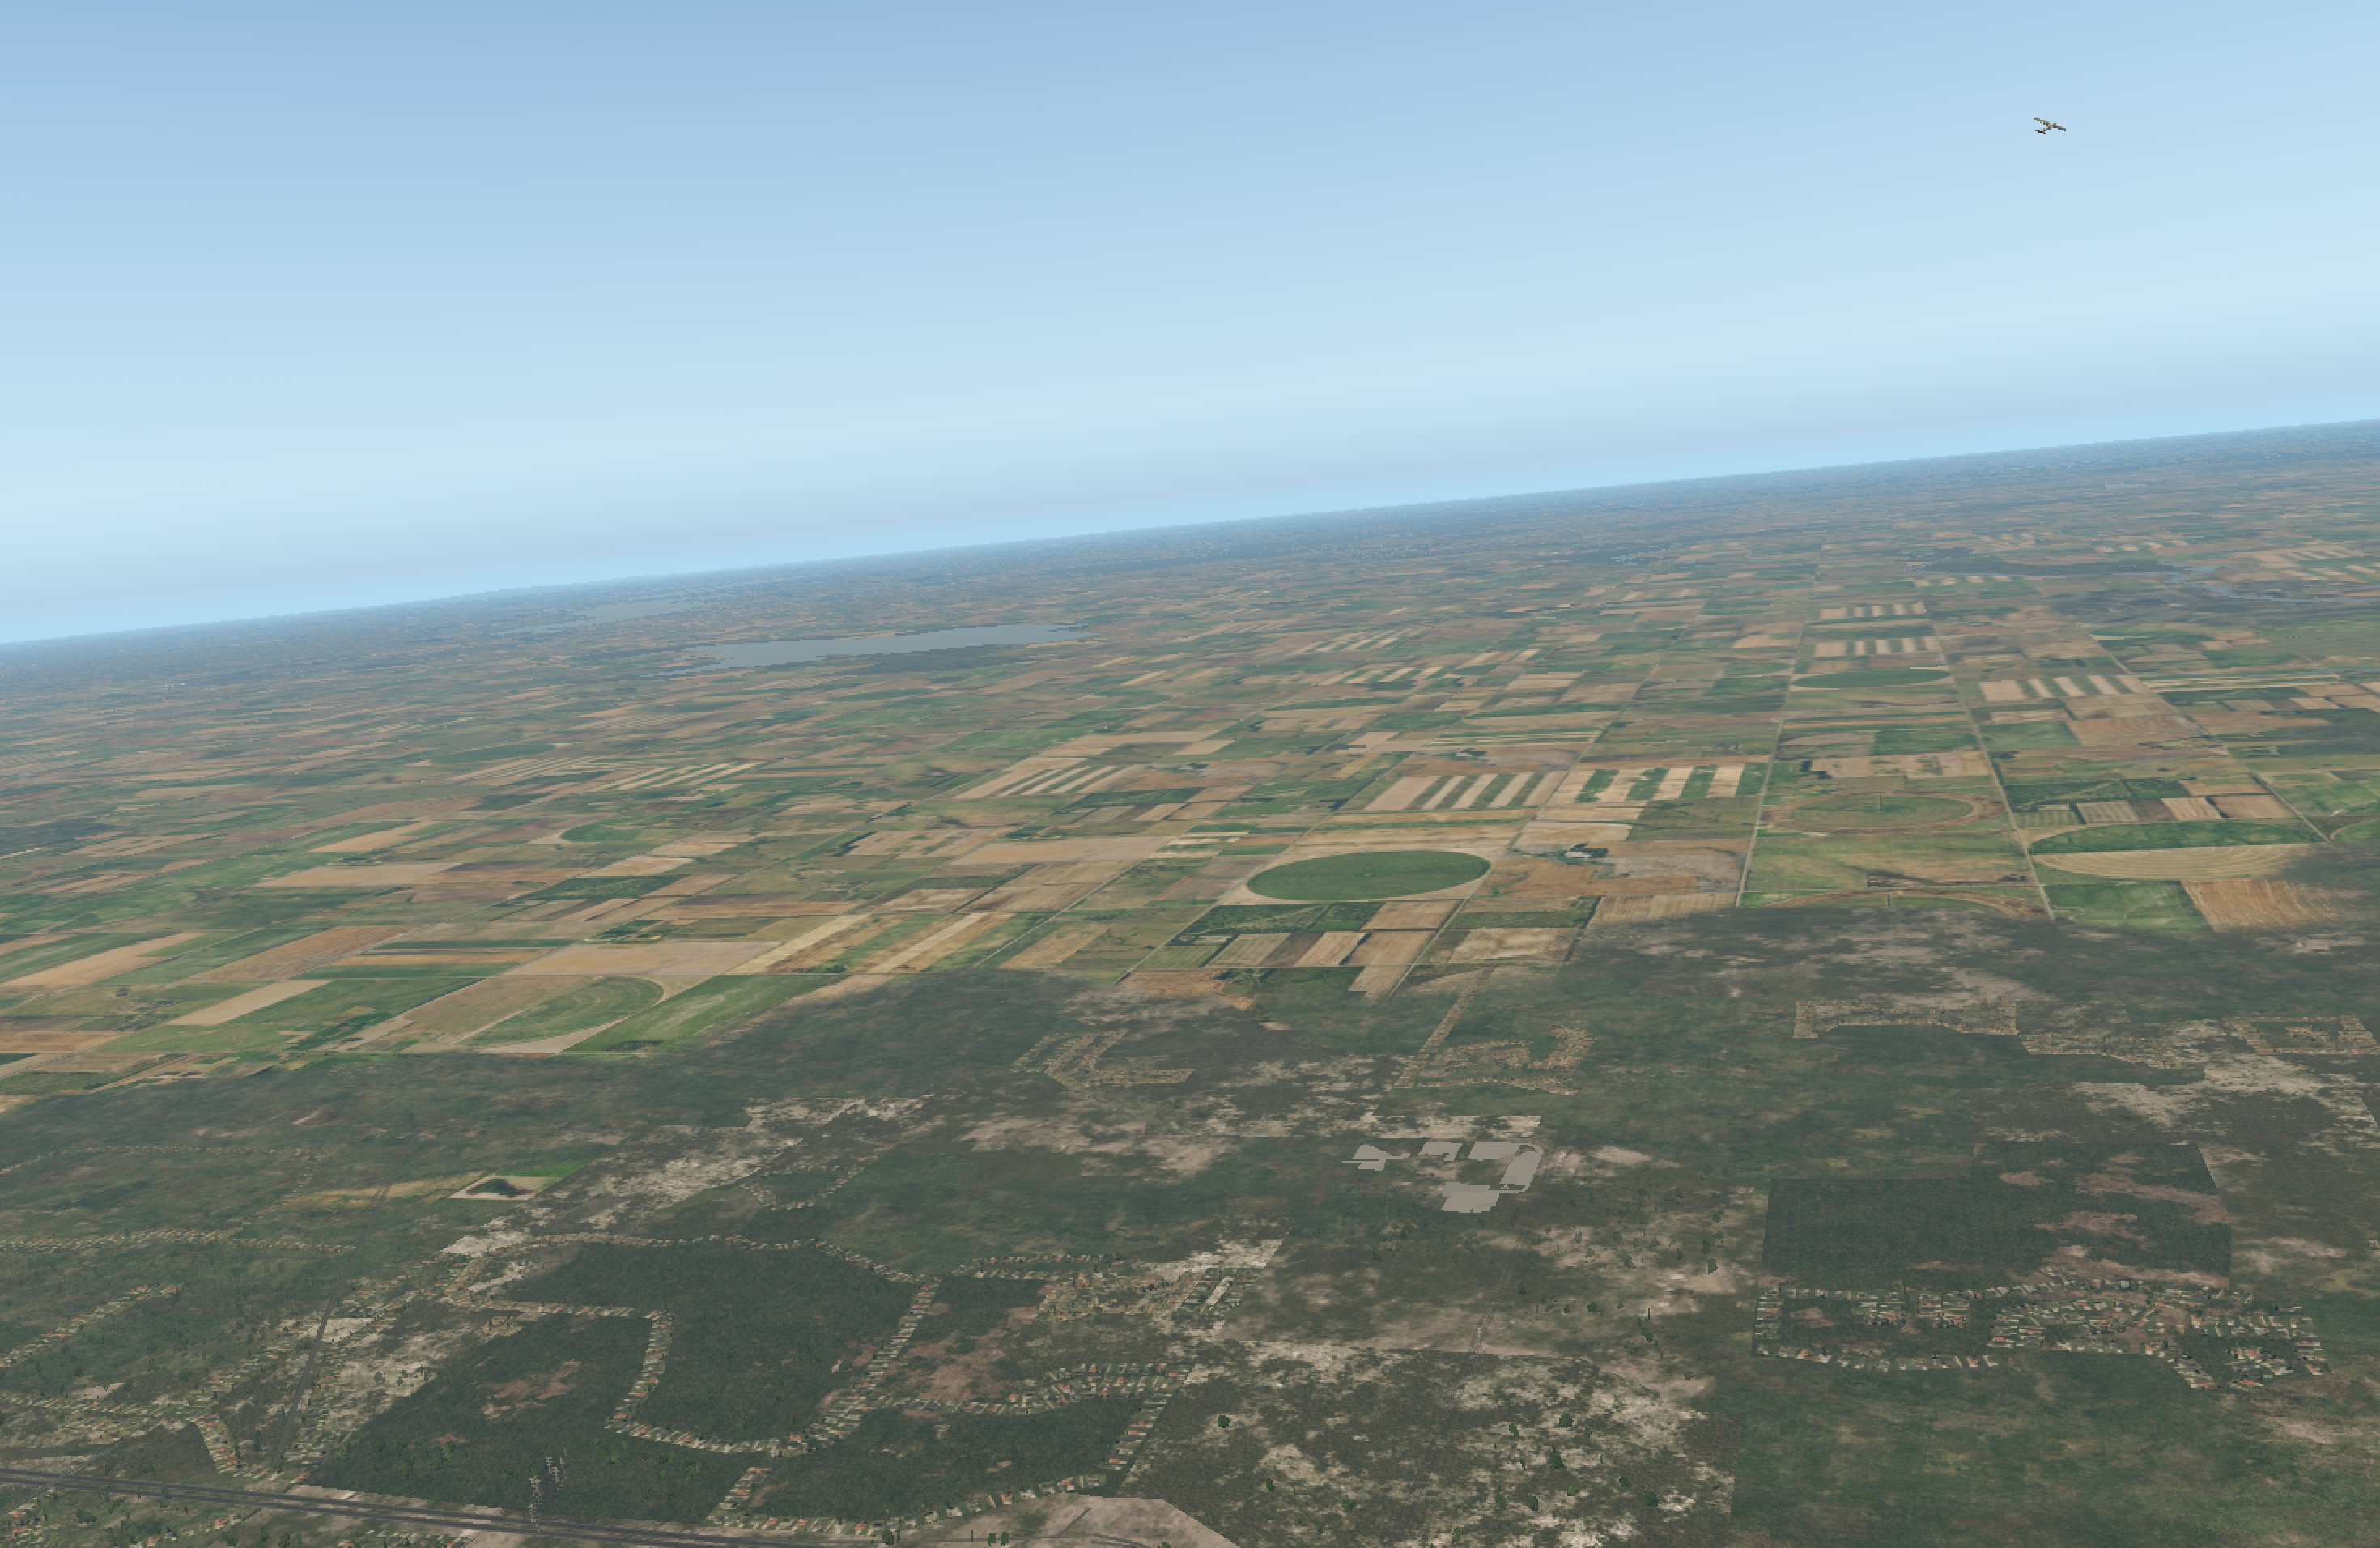aircraft: (2038, 121, 2063, 130)
